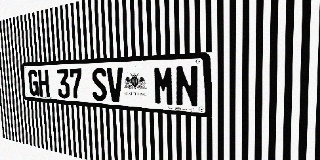3: (57, 69, 70, 99)
7: (69, 68, 83, 100)
G: (28, 70, 39, 96)
H: (38, 69, 50, 97)
M: (153, 66, 175, 106)
N: (175, 65, 199, 108)
S: (91, 68, 108, 101)
V: (107, 67, 124, 103)
